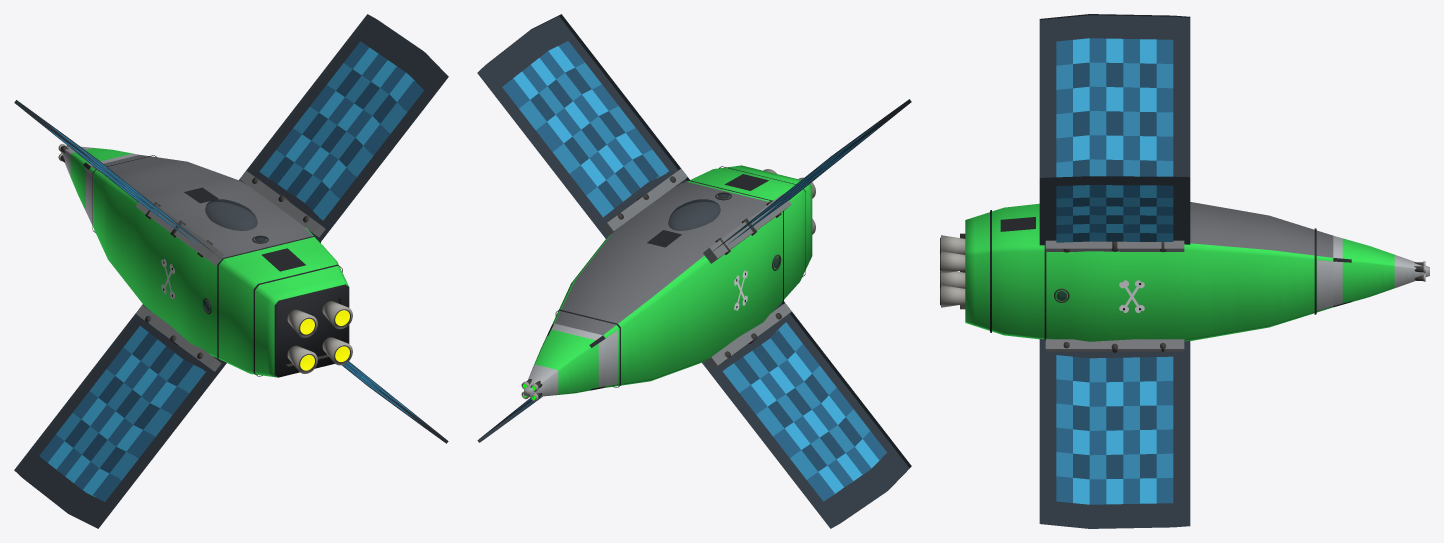
The model's file is Ship_Crosspanel_10.glb.
3 views of the same model, side by side, from view 1: azimuth 30°, elevation 25°; view 2: azimuth 150°, elevation 25°; view 3: azimuth 270°, elevation 25° (orthographic). The views are drawn at different scales.
Parts seen in each view (by area): view 1: Fuselage_SquareBody, SolarPanelWing_TopRightRidge_RectangularPhotovoltaicGrid, SolarPanelWing_LowerLeftRidge_RectangularPhotovoltaicGrid, SolarPanelWing_TopLeftRidge_RectangularPhotovoltaicGrid, Nose_SquareTaperedForwardSection, Canopy_DorsalLowSquareBubble, SolarPanelWing_TopLeftRidge_RootHingeClamp, SolarPanelWing_TopRightRidge_RootHingeClamp, SolarPanelWing_LowerLeftRidge_RootHingeClamp, SolarPanelWing_LowerRightRidge_RectangularPhotovoltaicGrid, EngineEmitter, HullAccessPanel_TopAft; view 2: Fuselage_SquareBody, SolarPanelWing_TopRightRidge_RectangularPhotovoltaicGrid, SolarPanelWing_LowerLeftRidge_RectangularPhotovoltaicGrid, Nose_SquareTaperedForwardSection, SolarPanelWing_TopLeftRidge_RectangularPhotovoltaicGrid, Canopy_DorsalLowSquareBubble, SolarPanelWing_TopLeftRidge_RootHingeClamp, SolarPanelWing_TopRightRidge_RootHingeClamp, SolarPanelWing_LowerLeftRidge_RootHingeClamp; view 3: Fuselage_SquareBody, SolarPanelWing_LowerRightRidge_RectangularPhotovoltaicGrid, SolarPanelWing_TopLeftRidge_RectangularPhotovoltaicGrid, SolarPanelWing_TopRightRidge_RectangularPhotovoltaicGrid, Nose_SquareTaperedForwardSection, SolarPanelWing_LowerRightRidge_RootHingeClamp, SolarPanelWing_TopRightRidge_RootHingeClamp.
Boxes of the visible parts, bbox=[...] form: Fuselage_SquareBody: bbox=[88, 155, 349, 377]; SolarPanelWing_TopRightRidge_RectangularPhotovoltaicGrid: bbox=[239, 14, 448, 242]; SolarPanelWing_LowerLeftRidge_RectangularPhotovoltaicGrid: bbox=[14, 304, 226, 528]; SolarPanelWing_TopLeftRidge_RectangularPhotovoltaicGrid: bbox=[14, 100, 224, 261]; Nose_SquareTaperedForwardSection: bbox=[61, 145, 139, 216]; Canopy_DorsalLowSquareBubble: bbox=[205, 199, 257, 230]; SolarPanelWing_TopLeftRidge_RootHingeClamp: bbox=[136, 196, 224, 265]; SolarPanelWing_TopRightRidge_RootHingeClamp: bbox=[240, 171, 325, 237]; SolarPanelWing_LowerLeftRidge_RootHingeClamp: bbox=[136, 305, 221, 371]; SolarPanelWing_LowerRightRidge_RectangularPhotovoltaicGrid: bbox=[342, 361, 448, 443]; EngineEmitter: bbox=[300, 310, 349, 370]; HullAccessPanel_TopAft: bbox=[261, 248, 305, 271]; Fuselage_SquareBody: bbox=[552, 165, 812, 388]; SolarPanelWing_TopRightRidge_RectangularPhotovoltaicGrid: bbox=[477, 14, 689, 238]; SolarPanelWing_LowerLeftRidge_RectangularPhotovoltaicGrid: bbox=[702, 301, 911, 528]; Nose_SquareTaperedForwardSection: bbox=[524, 323, 605, 397]; SolarPanelWing_TopLeftRidge_RectangularPhotovoltaicGrid: bbox=[703, 99, 911, 258]; Canopy_DorsalLowSquareBubble: bbox=[668, 199, 720, 230]; SolarPanelWing_TopLeftRidge_RootHingeClamp: bbox=[703, 193, 791, 263]; SolarPanelWing_TopRightRidge_RootHingeClamp: bbox=[602, 169, 687, 235]; SolarPanelWing_LowerLeftRidge_RootHingeClamp: bbox=[706, 303, 791, 369]; Fuselage_SquareBody: bbox=[965, 202, 1333, 341]; SolarPanelWing_LowerRightRidge_RectangularPhotovoltaicGrid: bbox=[1039, 339, 1190, 528]; SolarPanelWing_TopLeftRidge_RectangularPhotovoltaicGrid: bbox=[1039, 14, 1190, 177]; SolarPanelWing_TopRightRidge_RectangularPhotovoltaicGrid: bbox=[1039, 176, 1190, 245]; Nose_SquareTaperedForwardSection: bbox=[1333, 235, 1429, 307]; SolarPanelWing_LowerRightRidge_RootHingeClamp: bbox=[1045, 339, 1184, 351]; SolarPanelWing_TopRightRidge_RootHingeClamp: bbox=[1045, 240, 1184, 251].
Size of the model in its own units: 5.63 by 5.63 by 7.09.
